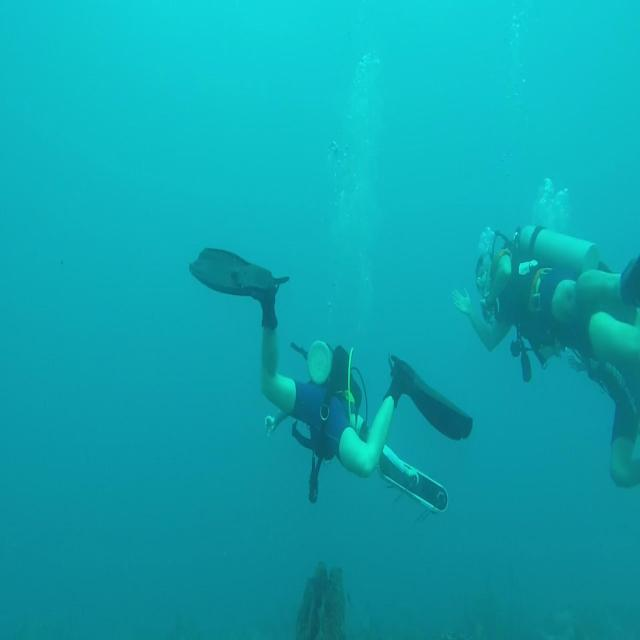human: (188, 245, 473, 516), (452, 222, 639, 488)
